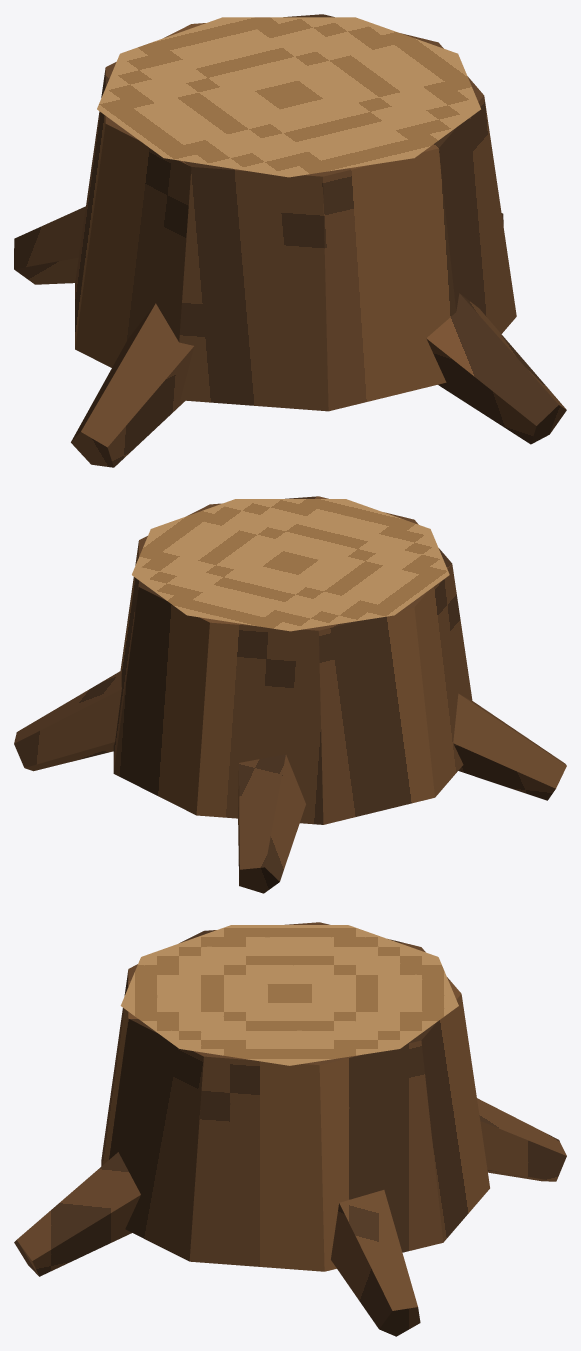
The model's file is stump.glb.
The picture shows the model from 3 angles, top to bottom: view 1: azimuth 30°, elevation 25°; view 2: azimuth 150°, elevation 25°; view 3: azimuth 270°, elevation 25°; orthographic projection. The views are drawn at different scales.
Parts seen in each view (by area): view 1: stump; view 2: stump; view 3: stump.
Part boxes in pixels (x1,y1,x2,y2): stump: (14, 14, 566, 467); stump: (14, 496, 566, 893); stump: (14, 922, 566, 1336).
Bounding box in the file's own units: 1.16 × 0.5457 × 1.16.
Materials: 2 (2 with a texture image).
